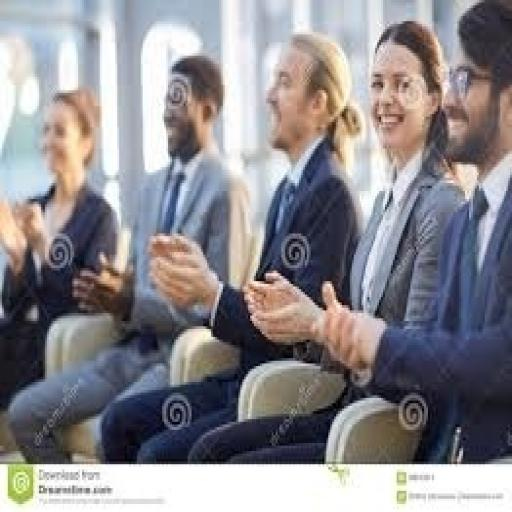clapping: (186, 16, 467, 464), (98, 29, 365, 462), (4, 50, 240, 464), (315, 0, 510, 464), (0, 85, 121, 414)
